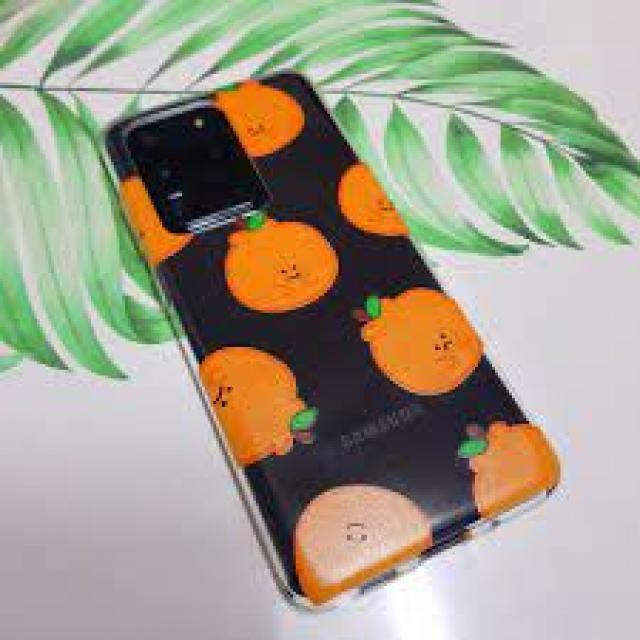phone: (102, 63, 563, 621)
